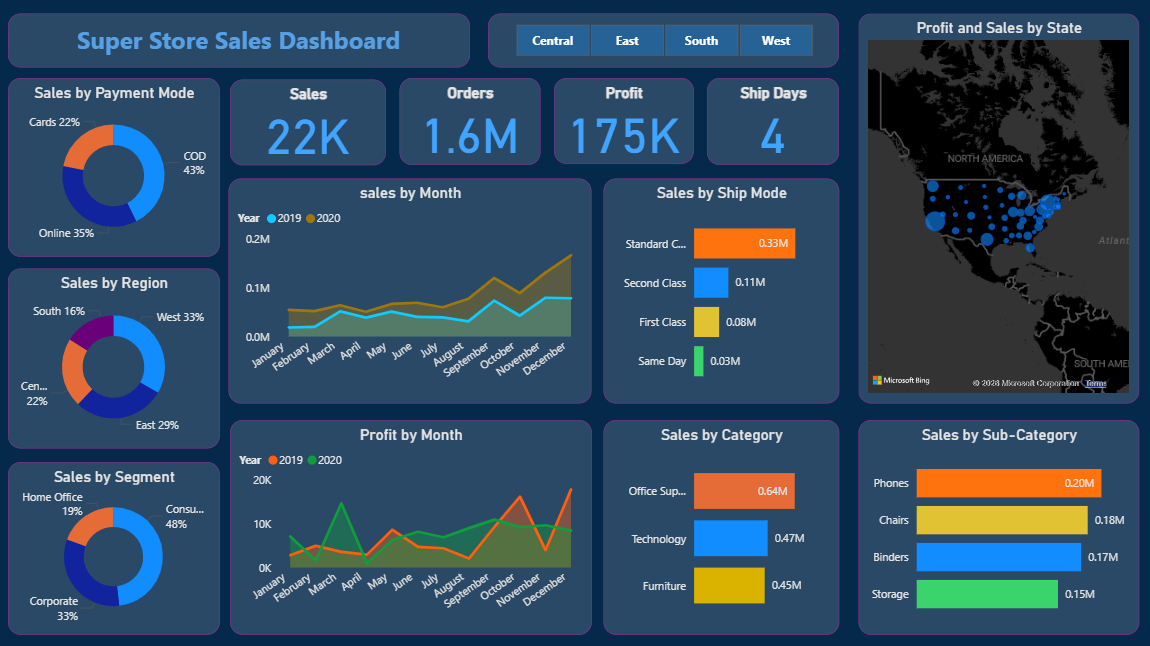

The page's visual inventory and layout, read from the dashboard file:
{"tool":"powerbi","page":{"name":"Page 1","canvas":[1280,720],"ordinal":0},"visuals":[{"type":"clusteredBarChart","title":" Sales by Category","fields":{"Category":["SuperStore_Sales_Dataset (1).Category"],"Y":["Sum(SuperStore_Sales_Dataset (1).Sales)"]},"box":[671.7,466.7,261.7,238.3],"z":0},{"type":"clusteredBarChart","title":" Sales by Sub-Category","fields":{"Category":["SuperStore_Sales_Dataset (1).Sub-Category"],"Y":["Sum(SuperStore_Sales_Dataset (1).Sales)"]},"box":[955,466.7,311.7,238.3],"z":1000},{"type":"clusteredBarChart","title":" Sales by Ship Mode","fields":{"Y":["Sum(SuperStore_Sales_Dataset (1).Sales)"],"Category":["SuperStore_Sales_Dataset (1).Ship Mode"]},"box":[671.7,198.3,261.7,250],"z":2000},{"type":"areaChart","title":"sales by Month","fields":{"Category":["SuperStore_Sales_Dataset (1).Order Date.Variation.Date Hierarchy.Month","SuperStore_Sales_Dataset (1).Order Date.Variation.Date Hierarchy.Day"],"Y":["Sum(SuperStore_Sales_Dataset (1).Sales)"],"Series":["SuperStore_Sales_Dataset (1).Order Date.Variation.Date Hierarchy.Year"]},"box":[255,198.3,403.3,250],"z":3000},{"type":"areaChart","title":"Profit  by Month","fields":{"Category":["SuperStore_Sales_Dataset (1).Order Date.Variation.Date Hierarchy.Month","SuperStore_Sales_Dataset (1).Order Date.Variation.Date Hierarchy.Day"],"Series":["SuperStore_Sales_Dataset (1).Order Date.Variation.Date Hierarchy.Year"],"Y":["Sum(SuperStore_Sales_Dataset (1).Profit)"]},"box":[256.7,466.7,401.7,238.3],"z":4000},{"type":"map","title":"Profit and Sales by State","fields":{"Category":["SuperStore_Sales_Dataset (1).State"],"Size":["Sum(SuperStore_Sales_Dataset (1).Sales)"]},"box":[955,15,311.7,433.3],"z":5000},{"type":"donutChart","title":"Sales by Region","fields":{"Category":["SuperStore_Sales_Dataset (1).Region"],"Y":["Sum(SuperStore_Sales_Dataset (1).Sales)"]},"box":[10,298.3,235,200],"z":6000},{"type":"donutChart","title":" Sales by Payment Mode","fields":{"Y":["Sum(SuperStore_Sales_Dataset (1).Sales)"],"Category":["SuperStore_Sales_Dataset (1).Payment Mode"]},"box":[10,86.7,235,198.3],"z":7000},{"type":"slicer","fields":{"Values":["SuperStore_Sales_Dataset (1).Region"]},"box":[543.3,15,390,60],"z":8000},{"type":"textbox","box":[10,15,513.3,60],"z":9000},{"type":"card","title":"Orders","fields":{"Values":["Sum(SuperStore_Sales_Dataset (1).Sales)"]},"box":[445,86.7,156.7,96.7],"z":10000},{"type":"card","title":"Ship Days","fields":{"Values":["Avg(SuperStore_Sales_Dataset (1).Avg-Delivery)"]},"box":[786.7,86.7,146.7,96.7],"z":11000},{"type":"card","title":"Profit","fields":{"Values":["Sum(SuperStore_Sales_Dataset (1).Profit)"]},"box":[616.7,86.7,155,95],"z":12000},{"type":"card","title":"Sales","fields":{"Values":["Sum(SuperStore_Sales_Dataset (1).Quantity)"]},"box":[256.7,88.3,173.3,95],"z":13000},{"type":"donutChart","title":"Sales by Segment","fields":{"Category":["SuperStore_Sales_Dataset (1).Segment"],"Y":["Sum(SuperStore_Sales_Dataset (1).Sales)"]},"box":[10,513.3,235,191.7],"z":13001}]}

Visuals, with their boxes in screenshot pixels (x1, y1, x2, y2), scaled from the page's 1280x720 canvas onto the 1150x646 screenshot:
" Sales by Category" clusteredBarChart: select_region(603, 419, 839, 633)
" Sales by Sub-Category" clusteredBarChart: select_region(858, 419, 1138, 633)
" Sales by Ship Mode" clusteredBarChart: select_region(603, 178, 839, 402)
"sales by Month" areaChart: select_region(229, 178, 591, 402)
"Profit  by Month" areaChart: select_region(231, 419, 592, 633)
"Profit and Sales by State" map: select_region(858, 13, 1138, 402)
"Sales by Region" donutChart: select_region(9, 268, 220, 447)
" Sales by Payment Mode" donutChart: select_region(9, 78, 220, 256)
slicer - SuperStore_Sales_Dataset (1).Region: select_region(488, 13, 839, 67)
textbox: select_region(9, 13, 470, 67)
"Orders" card: select_region(400, 78, 541, 165)
"Ship Days" card: select_region(707, 78, 839, 165)
"Profit" card: select_region(554, 78, 693, 163)
"Sales" card: select_region(231, 79, 386, 164)
"Sales by Segment" donutChart: select_region(9, 461, 220, 633)
